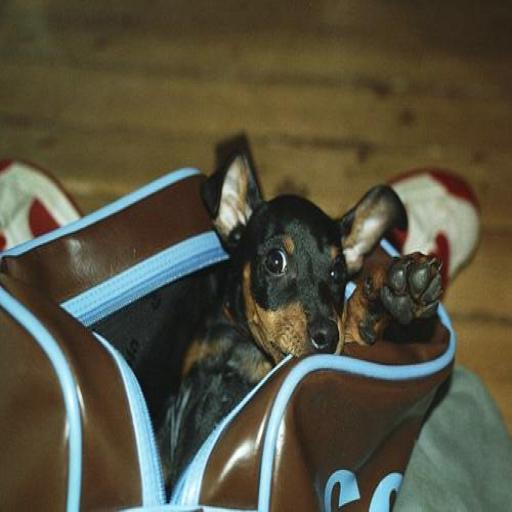dog_face: (207, 151, 395, 384)
